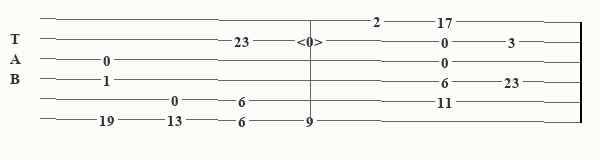0: (103, 53, 115, 67), (171, 93, 183, 107), (441, 53, 453, 67), (441, 33, 453, 47)
1: (103, 73, 115, 87)
11: (437, 93, 457, 107)
13: (167, 113, 187, 127)
17: (437, 13, 457, 27)
19: (99, 113, 119, 127)
2: (373, 13, 385, 27)
23: (234, 33, 254, 47), (504, 73, 524, 87)
3: (508, 33, 520, 47)
6: (238, 113, 250, 127), (238, 93, 250, 107), (441, 73, 453, 87)
9: (306, 113, 318, 127)
harmonic: (297, 33, 327, 47)
